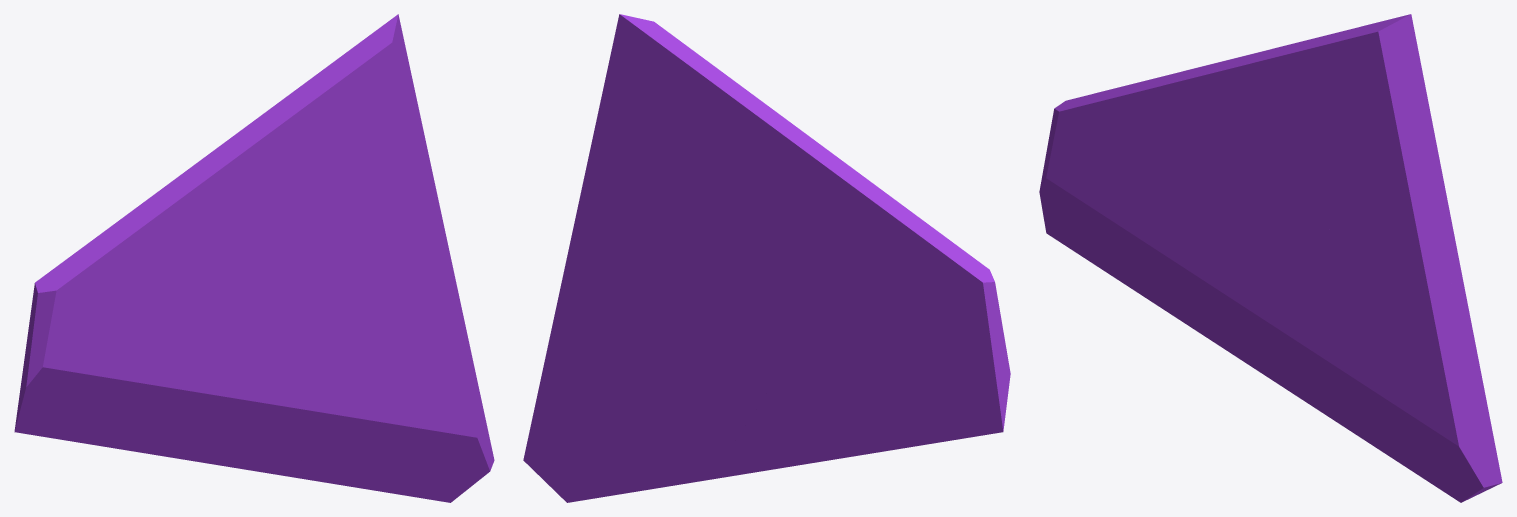
File: Glass_83_1_16_chunks.fbx
3 views of the same model, side by side, from view 1: azimuth 30°, elevation 25°; view 2: azimuth 150°, elevation 25°; view 3: azimuth 330°, elevation 25° (orthographic). The views are drawn at different scales.
Parts seen in each view (by area): view 1: Glass_83_1_16_2, Glass_83_1_16_4, Glass_83_1_16_6, Glass_83_1_16_1, Glass_83_1_16_3, Glass_83_1_16_0, Glass_83_1_16_5; view 2: Glass_83_1_16_2, Glass_83_1_16_4, Glass_83_1_16_6, Glass_83_1_16_0, Glass_83_1_16_3, Glass_83_1_16_1; view 3: Glass_83_1_16_2, Glass_83_1_16_4, Glass_83_1_16_6, Glass_83_1_16_1, Glass_83_1_16_3, Glass_83_1_16_0, Glass_83_1_16_5.
Boxes of the visible parts, x1,y1,x2,y2 form: Glass_83_1_16_2: [28, 19, 396, 372]; Glass_83_1_16_4: [296, 270, 494, 502]; Glass_83_1_16_6: [307, 14, 453, 290]; Glass_83_1_16_1: [83, 339, 307, 479]; Glass_83_1_16_3: [240, 221, 351, 443]; Glass_83_1_16_0: [14, 334, 130, 443]; Glass_83_1_16_5: [340, 267, 421, 340]; Glass_83_1_16_2: [626, 15, 1005, 346]; Glass_83_1_16_4: [523, 269, 731, 502]; Glass_83_1_16_6: [564, 14, 731, 298]; Glass_83_1_16_0: [790, 317, 1010, 443]; Glass_83_1_16_3: [666, 206, 793, 445]; Glass_83_1_16_1: [710, 358, 933, 479]; Glass_83_1_16_2: [1043, 15, 1404, 242]; Glass_83_1_16_4: [1301, 281, 1502, 502]; Glass_83_1_16_6: [1297, 14, 1463, 285]; Glass_83_1_16_1: [1111, 220, 1324, 414]; Glass_83_1_16_3: [1234, 161, 1339, 371]; Glass_83_1_16_0: [1039, 169, 1128, 275]; Glass_83_1_16_5: [1328, 221, 1405, 296].
Size of the model in its own units: 529 by 528 by 27.2.
